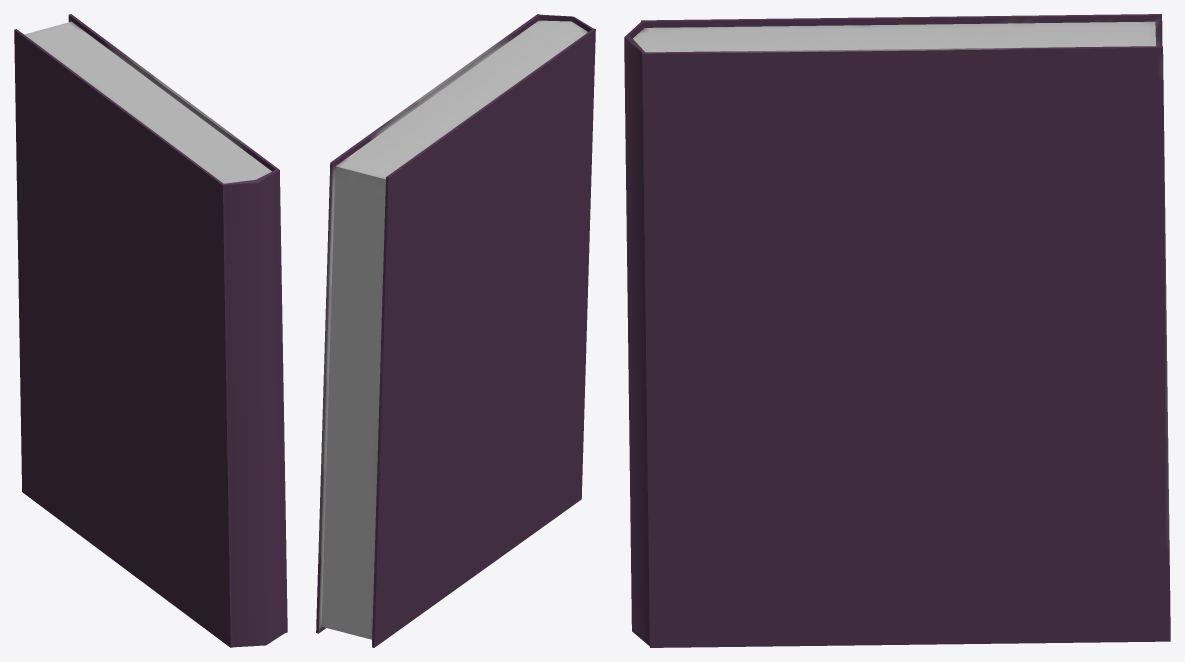
The model's file is BookPurple.fbx.
3 views of the same model, side by side, from view 1: azimuth 30°, elevation 25°; view 2: azimuth 150°, elevation 25°; view 3: azimuth 270°, elevation 25° (orthographic). The views are drawn at different scales.
Parts seen in each view (by area): view 1: BookPurpleOBJ; view 2: BookPurpleOBJ; view 3: BookPurpleOBJ.
Boxes of the visible parts, <box> form: BookPurpleOBJ: <box>14,14,287,647</box>; BookPurpleOBJ: <box>316,14,595,647</box>; BookPurpleOBJ: <box>624,14,1170,647</box>.
Bounding box in the file's own units: 5.75 × 37.34 × 31.12.
1 material, 1 textured.
